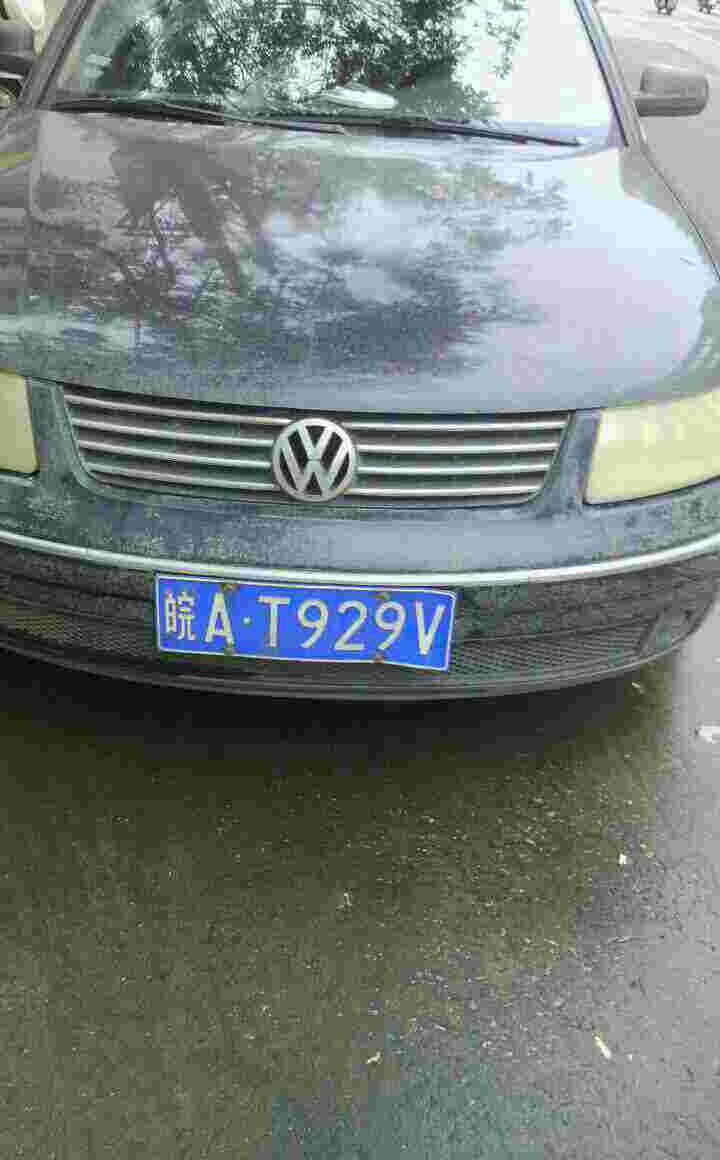license_plate: (161, 583, 464, 655)
